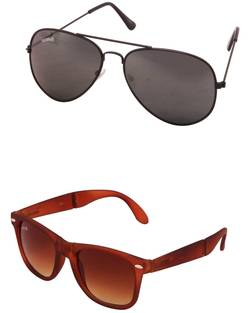sunglasses: (18, 15, 229, 134), (6, 196, 170, 312)
